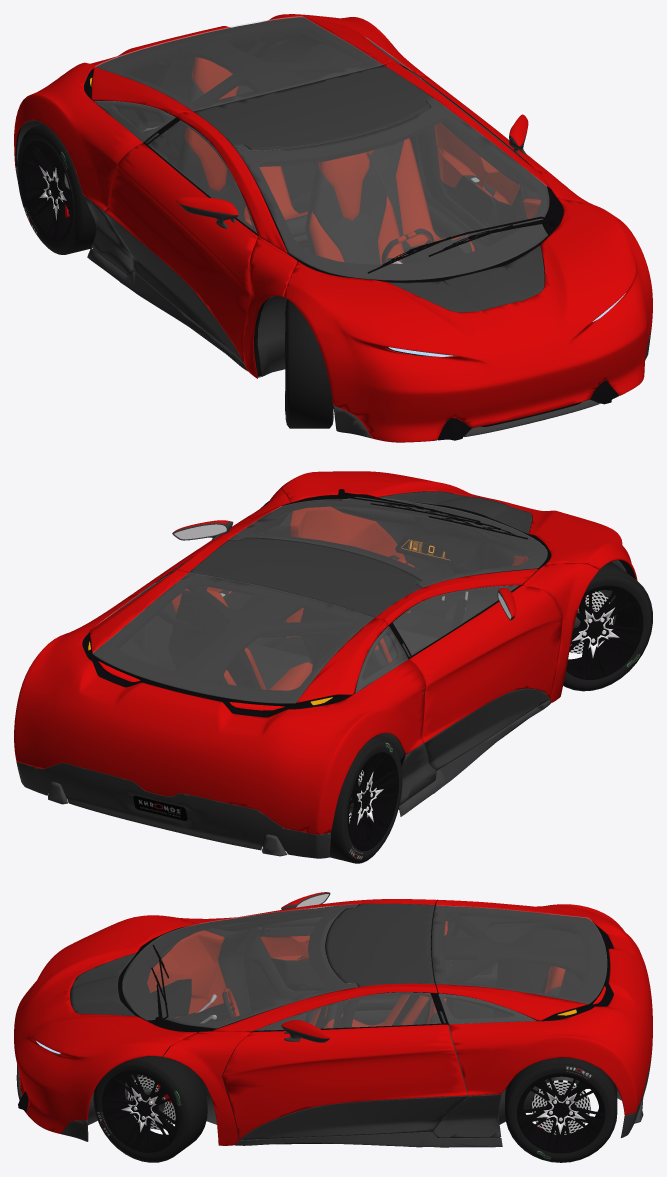
File: carconcept.glb
The picture shows the model from 3 angles, top to bottom: view 1: azimuth 30°, elevation 25°; view 2: azimuth 150°, elevation 25°; view 3: azimuth 270°, elevation 25°; orthographic projection. The views are drawn at different scales.
Parts seen in each view (by area): view 1: BodyHood, BodyWindshield, BodyRearwindow, BodyDoorRColor1, BodyRearPanelsColor1, BodyRoofPanel, BodyWindshieldGasket, InteriorSeatsColor1, InteriorSeatsColor2, BodyPillars, InteriorPillar, InteriorRearHatch (+21 smaller); view 2: BodyRearPanelsColor1, BodyRearwindow, BodyWindshield, BodyDoorRColor1, BodyPanelsColor2, BodyRoofPanel, BodyHood, InteriorRearHatch, BodyPillars, InteriorPillar, BodyWindshieldGasket, InteriorDashMid (+22 smaller); view 3: BodyRearPanelsColor1, BodyWindshield, BodyDoorLColor1, BodyHood, BodyRearwindow, BodyRoofPanel, BodyPillars, BodyWindshieldGasket, BodyDoorLColor2, BodyPanelsColor2, WheelFrontL, InteriorRearHatch (+25 smaller).
Boxes of the visible parts, bbox=[...] form: BodyHood: bbox=[283, 198, 652, 442]; BodyWindshield: bbox=[234, 98, 549, 280]; BodyRearwindow: bbox=[95, 16, 382, 110]; BodyDoorRColor1: bbox=[104, 143, 257, 363]; BodyRearPanelsColor1: bbox=[14, 14, 428, 210]; BodyRoofPanel: bbox=[193, 65, 432, 150]; BodyWindshieldGasket: bbox=[234, 99, 563, 282]; InteriorSeatsColor1: bbox=[185, 57, 475, 264]; InteriorSeatsColor2: bbox=[180, 78, 472, 264]; BodyPillars: bbox=[176, 61, 598, 378]; InteriorPillar: bbox=[158, 37, 434, 168]; InteriorRearHatch: bbox=[93, 17, 383, 117]; BodyRearPanelsColor1: bbox=[14, 569, 425, 834]; BodyRearwindow: bbox=[92, 573, 373, 703]; BodyWindshield: bbox=[229, 497, 547, 587]; BodyDoorRColor1: bbox=[409, 585, 562, 742]; BodyPanelsColor2: bbox=[16, 700, 550, 858]; BodyRoofPanel: bbox=[189, 537, 422, 617]; BodyHood: bbox=[279, 471, 637, 580]; InteriorRearHatch: bbox=[93, 573, 386, 707]; BodyPillars: bbox=[175, 489, 599, 702]; InteriorPillar: bbox=[174, 574, 417, 682]; BodyWindshieldGasket: bbox=[230, 497, 550, 587]; InteriorDashMid: bbox=[331, 503, 528, 622]; BodyRearPanelsColor1: bbox=[436, 899, 652, 1115]; BodyWindshield: bbox=[122, 904, 357, 1028]; BodyDoorLColor1: bbox=[222, 1024, 467, 1139]; BodyHood: bbox=[14, 915, 196, 1133]; BodyRearwindow: bbox=[432, 905, 606, 1003]; BodyRoofPanel: bbox=[326, 903, 434, 986]; BodyPillars: bbox=[163, 899, 437, 1145]; BodyWindshieldGasket: bbox=[118, 905, 357, 1032]; BodyDoorLColor2: bbox=[240, 1096, 467, 1140]; BodyPanelsColor2: bbox=[16, 1045, 652, 1147]; WheelFrontL: bbox=[93, 1054, 207, 1162]; InteriorRearHatch: bbox=[431, 905, 606, 1020].
Size of the model in its own units: 2.54 by 1.15 by 4.36.
Materials: 23 (6 with a texture image).
